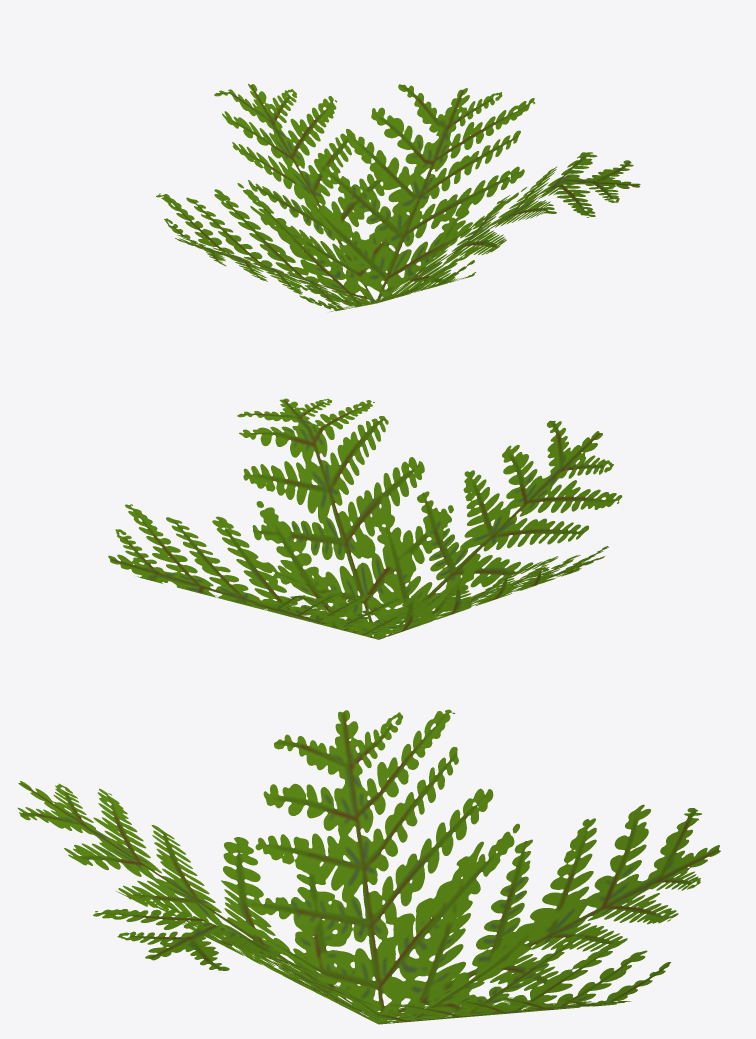
The model's file is Leaves_Bush_1.fbx.
3 views of the same model, one above another, from view 1: azimuth 30°, elevation 25°; view 2: azimuth 150°, elevation 25°; view 3: azimuth 270°, elevation 25° (orthographic). The views are drawn at different scales.
Parts seen in each view (by area): view 1: leaves_Bush_1; view 2: leaves_Bush_1; view 3: leaves_Bush_1.
Boxes of the visible parts, x1,y1,x2,y2 form: leaves_Bush_1: (156, 83, 640, 311); leaves_Bush_1: (108, 398, 622, 639); leaves_Bush_1: (17, 709, 720, 1024).
Bounding box in the file's own units: 2.24 × 0.6283 × 2.24.
